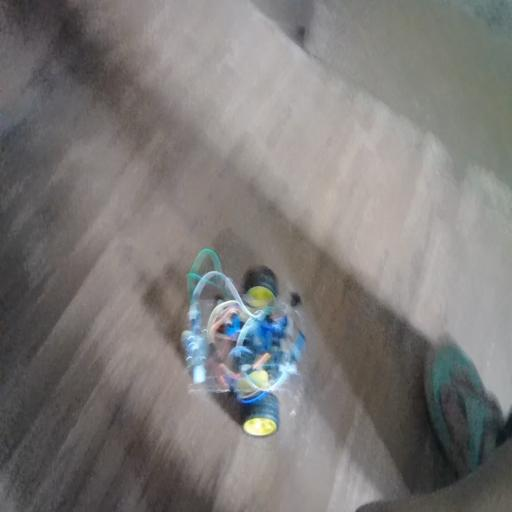car: (173, 247, 320, 437)
